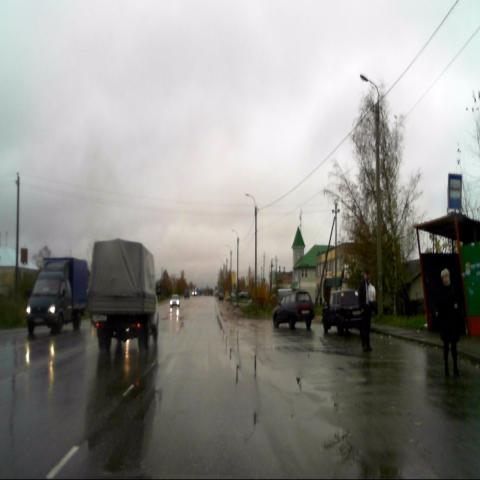5_16: (447, 171, 462, 210)
